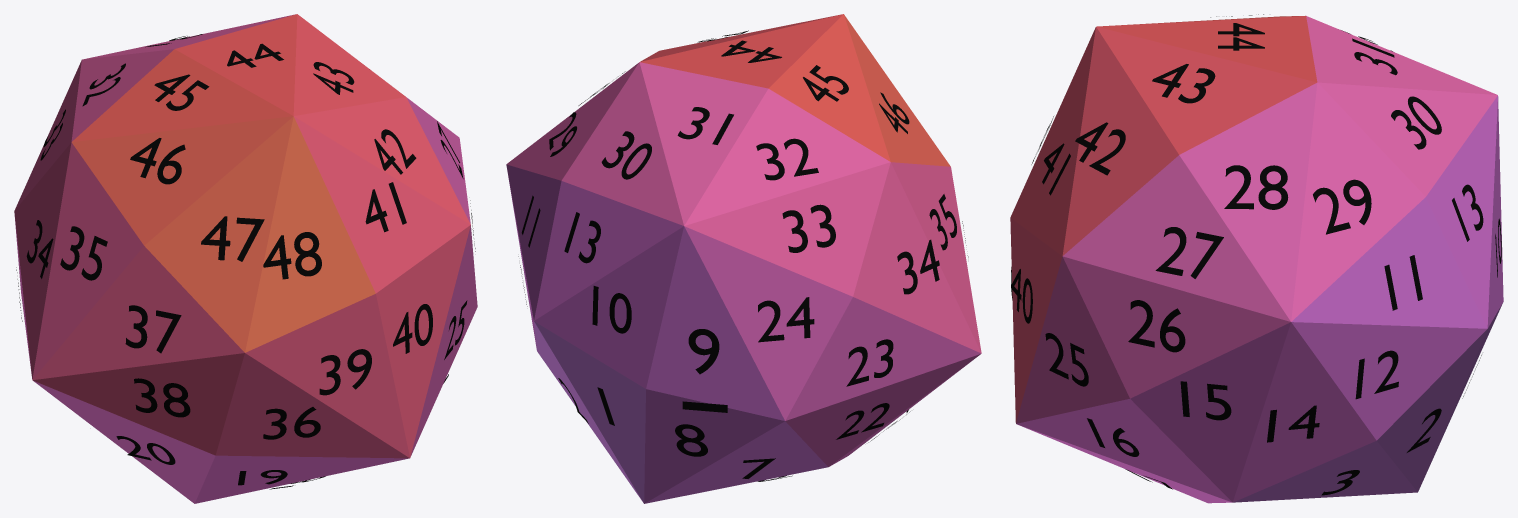
3 views of the same model, side by side, from view 1: azimuth 30°, elevation 25°; view 2: azimuth 150°, elevation 25°; view 3: azimuth 270°, elevation 25° (orthographic). The views are drawn at different scales.
Parts seen in each view (by area): view 1: d48, d48_num; view 2: d48, d48_num; view 3: d48, d48_num.
Boxes of the visible parts, x1,y1,x2,y2 form: d48: [14, 14, 477, 503]; d48_num: [16, 34, 475, 489]; d48: [506, 14, 981, 503]; d48_num: [518, 30, 968, 481]; d48: [1010, 15, 1503, 503]; d48_num: [1011, 14, 1501, 495].
Size of the model in its own units: 3.3 by 2.94 by 2.88.
